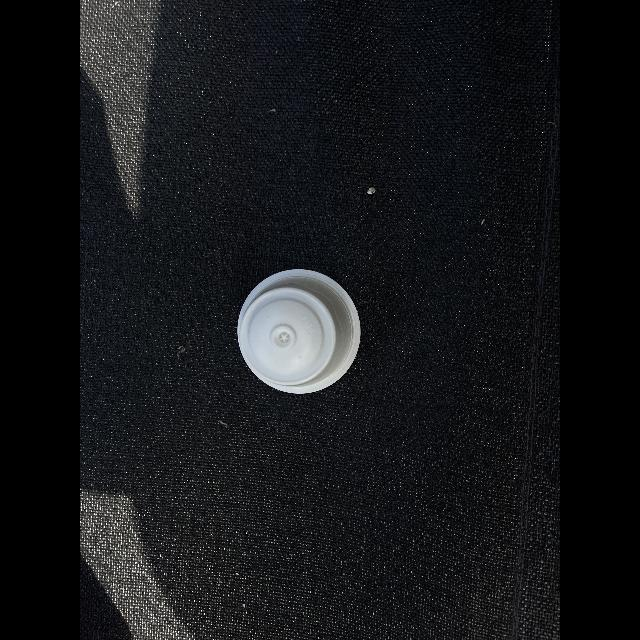intact_capsule: (230, 259, 374, 407)
